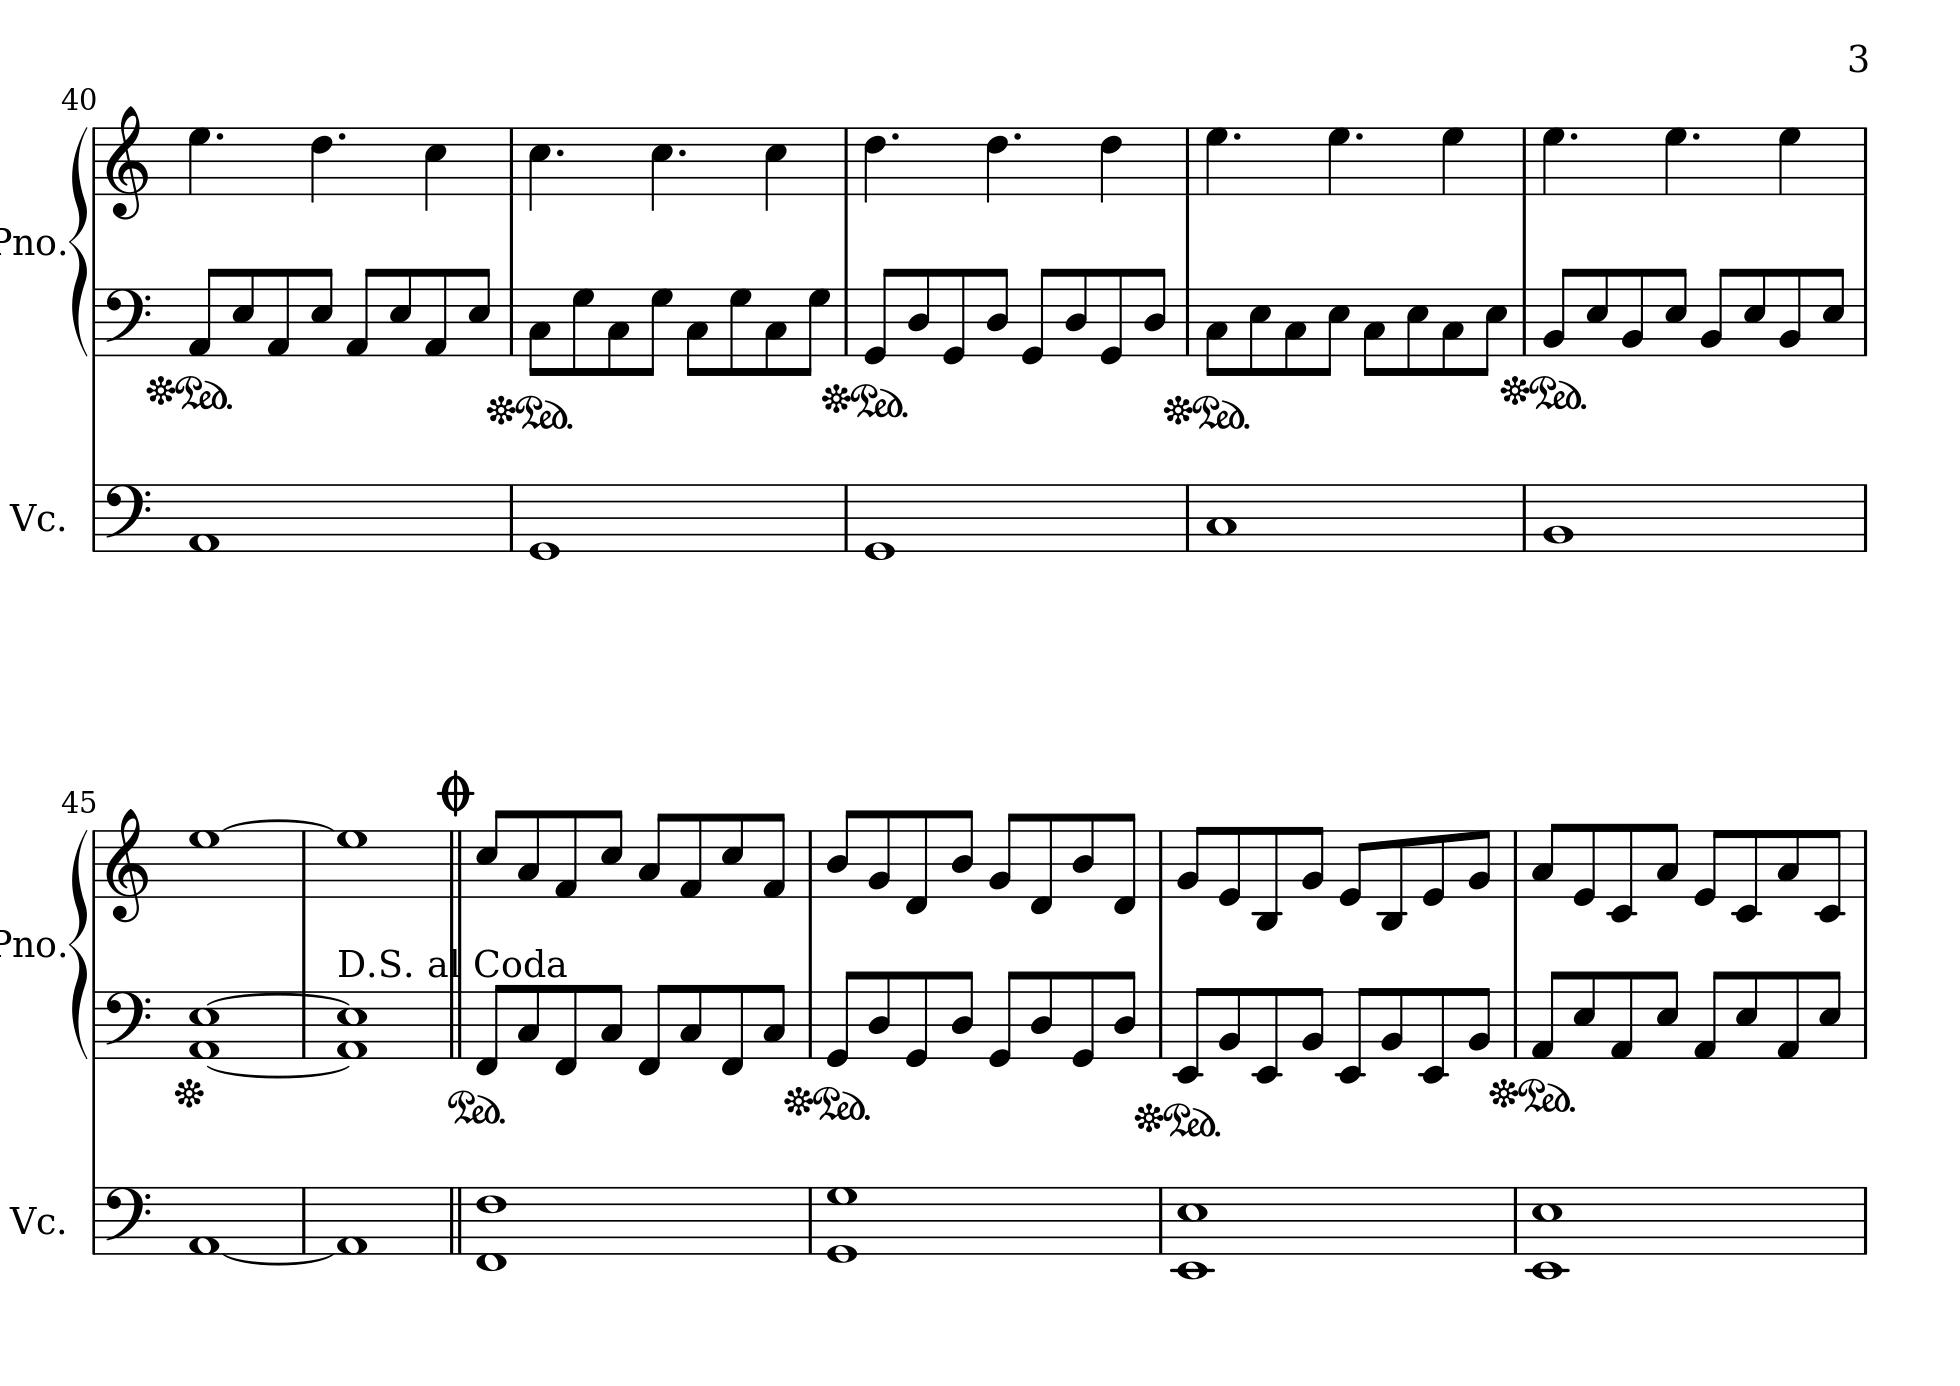0: (79, 85, 97, 112)
1_-1_6: (472, 1183, 510, 1273)
1_-2_5: (1170, 1185, 1218, 1281), (1524, 1185, 1570, 1282)
1_0: (862, 480, 897, 562), (529, 480, 561, 562)
1_0_7: (823, 1183, 859, 1264)
1_1: (334, 1183, 369, 1258), (187, 481, 220, 556), (187, 1183, 220, 1258)
1_1_5: (187, 988, 220, 1062), (337, 988, 370, 1060)
1_2: (1542, 481, 1575, 553)
1_3: (1206, 481, 1236, 553)
1_7: (187, 828, 220, 898), (336, 828, 367, 900)
3: (1848, 40, 1869, 73)
4: (60, 85, 79, 112), (60, 787, 78, 814)
4_5: (421, 124, 448, 214), (649, 124, 673, 214), (763, 124, 787, 214), (526, 124, 550, 213)
4_6: (862, 124, 886, 205), (984, 124, 1008, 205), (1098, 124, 1122, 205), (309, 126, 333, 205)
4_7: (1204, 126, 1230, 196), (1326, 126, 1351, 196), (1440, 126, 1465, 196), (1663, 126, 1689, 196), (1777, 126, 1803, 196), (187, 126, 211, 196), (1542, 126, 1566, 196)
5: (79, 787, 97, 814)
8_-1: (472, 979, 508, 1078), (634, 981, 670, 1078), (901, 808, 931, 916), (1110, 811, 1140, 916), (1027, 811, 1056, 918), (552, 982, 580, 1078), (718, 982, 745, 1078)
8_-2: (1335, 984, 1374, 1084), (1173, 984, 1210, 1084), (1251, 985, 1284, 1084), (1606, 820, 1638, 924), (1417, 985, 1449, 1084), (1731, 826, 1762, 924), (1815, 826, 1845, 922)
8_-3: (1252, 823, 1284, 931), (1377, 829, 1407, 933)
8_0: (1018, 265, 1054, 369), (862, 265, 897, 367), (825, 967, 859, 1069), (987, 969, 1021, 1071), (903, 967, 931, 1069), (1069, 967, 1098, 1069), (940, 265, 967, 367), (1098, 267, 1125, 367), (1338, 828, 1371, 907), (1693, 826, 1725, 907), (1572, 820, 1599, 907), (1218, 823, 1245, 907), (1422, 828, 1447, 907)
8_1: (343, 265, 379, 358), (1530, 967, 1566, 1060), (1692, 967, 1728, 1060), (186, 265, 222, 357), (264, 265, 292, 358), (421, 265, 450, 358), (1608, 967, 1636, 1060), (1774, 969, 1803, 1060), (678, 811, 706, 900), (553, 808, 580, 900), (760, 810, 787, 900)
8_2: (987, 811, 1020, 900), (1542, 267, 1573, 357), (1699, 267, 1731, 357), (1779, 267, 1806, 358), (1620, 267, 1647, 357), (865, 808, 892, 898), (1176, 823, 1207, 898), (1380, 985, 1407, 1060), (1467, 985, 1494, 1060), (1300, 823, 1326, 900), (1218, 985, 1243, 1060), (1300, 985, 1326, 1060), (1467, 828, 1492, 898)
8_3: (637, 811, 669, 898), (604, 286, 631, 379), (516, 808, 543, 900), (1531, 820, 1563, 898), (526, 286, 552, 379), (684, 286, 709, 379), (762, 286, 787, 379), (1203, 286, 1228, 379), (1282, 286, 1308, 378), (1440, 286, 1465, 378), (1362, 286, 1386, 379), (678, 981, 705, 1060), (514, 982, 541, 1060), (598, 981, 624, 1060), (762, 981, 787, 1060), (1776, 826, 1803, 898), (1656, 820, 1680, 898)
8_4: (823, 808, 858, 898), (984, 265, 1011, 357), (865, 969, 892, 1060), (1029, 967, 1056, 1059), (1071, 811, 1098, 898), (1063, 265, 1089, 357), (1143, 265, 1168, 357), (949, 969, 975, 1060), (1113, 969, 1138, 1060), (906, 265, 931, 355), (949, 808, 975, 898)
8_5: (1320, 286, 1351, 378), (1477, 286, 1509, 376), (475, 808, 505, 900), (1743, 265, 1770, 358), (1821, 265, 1848, 357), (1734, 969, 1761, 1059), (309, 265, 334, 358), (1404, 285, 1429, 378), (1585, 265, 1611, 358), (231, 265, 256, 357), (466, 265, 492, 357), (1663, 265, 1689, 357), (598, 807, 624, 898), (1818, 969, 1843, 1060), (1572, 969, 1597, 1059), (1656, 967, 1680, 1060), (720, 811, 745, 898), (388, 265, 412, 357), (1248, 286, 1272, 378)
8_7: (796, 286, 831, 378), (640, 286, 673, 376), (727, 286, 753, 378), (570, 286, 595, 376)
Brace: (67, 124, 91, 357), (67, 822, 88, 1060)
Coda: (435, 768, 475, 814)
DSalcoda: (334, 946, 568, 982)
Double_barline: (444, 1185, 468, 1254), (445, 984, 466, 1059), (447, 829, 463, 897)
Fclef: (102, 285, 153, 357), (103, 481, 151, 553), (103, 1183, 151, 1255), (103, 988, 151, 1059)
Gclef: (103, 805, 151, 924), (103, 103, 148, 220)
Pno: (1, 223, 55, 259), (1, 925, 55, 960)
Single_barline: (1855, 286, 1875, 355), (1179, 127, 1198, 195), (1855, 127, 1875, 195), (1516, 127, 1536, 195), (801, 1186, 820, 1254), (294, 1186, 313, 1252), (1152, 829, 1170, 898), (502, 127, 520, 195), (502, 288, 520, 355), (1179, 288, 1197, 355), (1515, 288, 1533, 355), (85, 1186, 103, 1254), (838, 127, 856, 193), (85, 484, 103, 550), (502, 484, 520, 550), (1179, 484, 1197, 550), (1516, 484, 1534, 550), (294, 993, 312, 1059), (1507, 829, 1524, 898), (1857, 829, 1873, 898), (295, 829, 312, 898), (838, 288, 855, 355), (1857, 991, 1873, 1059), (1153, 1186, 1170, 1254), (838, 484, 855, 550), (1857, 484, 1873, 550), (1857, 1186, 1873, 1252), (802, 829, 817, 898), (88, 127, 103, 195), (88, 288, 103, 355), (87, 829, 102, 897), (1153, 990, 1168, 1057), (1509, 1186, 1524, 1254), (802, 991, 817, 1057), (1509, 991, 1524, 1057), (88, 991, 102, 1059)
Slur: (222, 1252, 336, 1266), (220, 817, 331, 829)
Vc: (4, 498, 61, 535), (4, 1201, 63, 1237)
dot: (1230, 129, 1245, 145), (888, 127, 901, 145), (1011, 127, 1024, 144), (1567, 129, 1581, 145), (334, 129, 348, 142), (1689, 129, 1702, 142), (675, 145, 688, 159), (553, 145, 565, 160), (213, 129, 225, 142), (1353, 129, 1365, 142)
